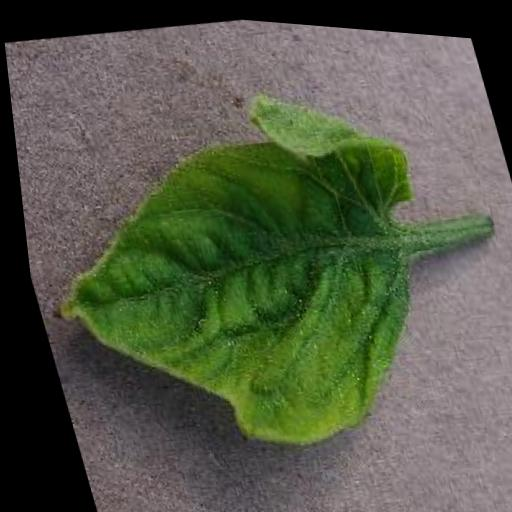Yellow Leaf Curl Virus: (4, 49, 478, 487)
